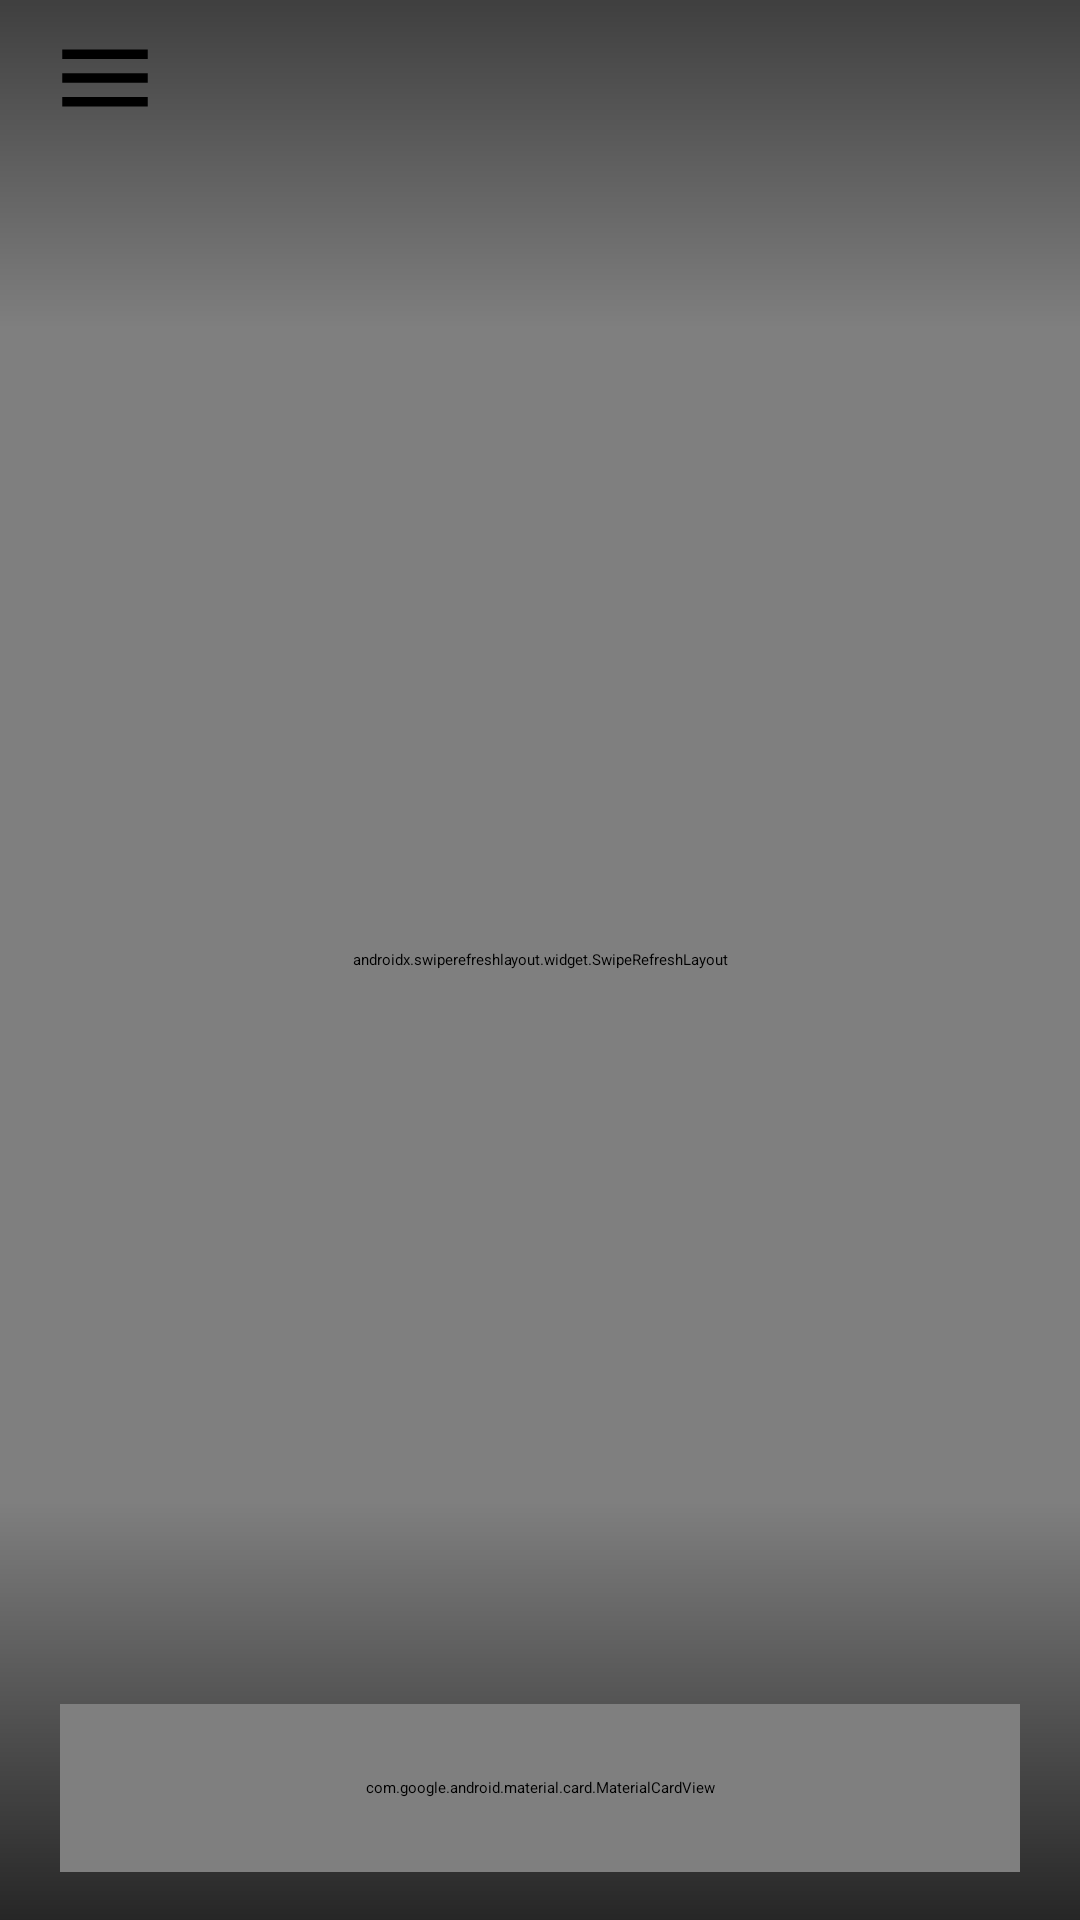

Point at icon controls on the screen. Image size 1080*1920, points as (x,y).
Open Menu: (105,78)
